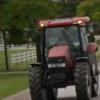Tractor: (28, 15, 100, 100)
